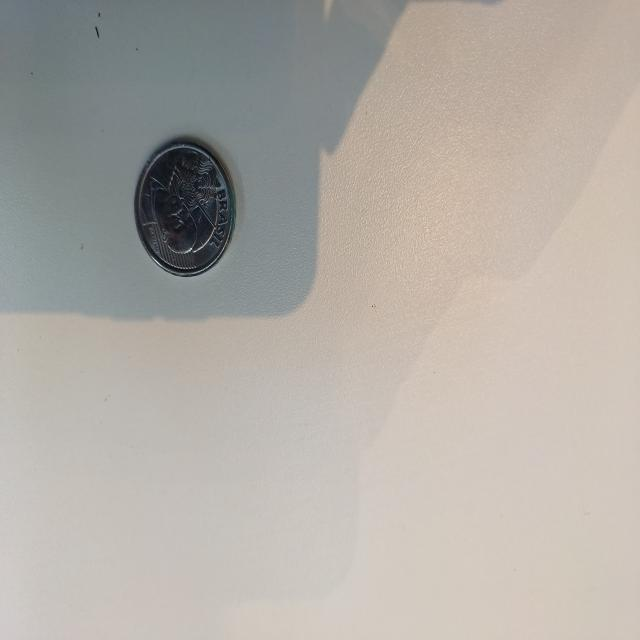50 cents: (132, 135, 239, 281)
